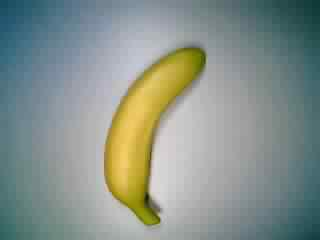banana: (98, 47, 207, 226)
